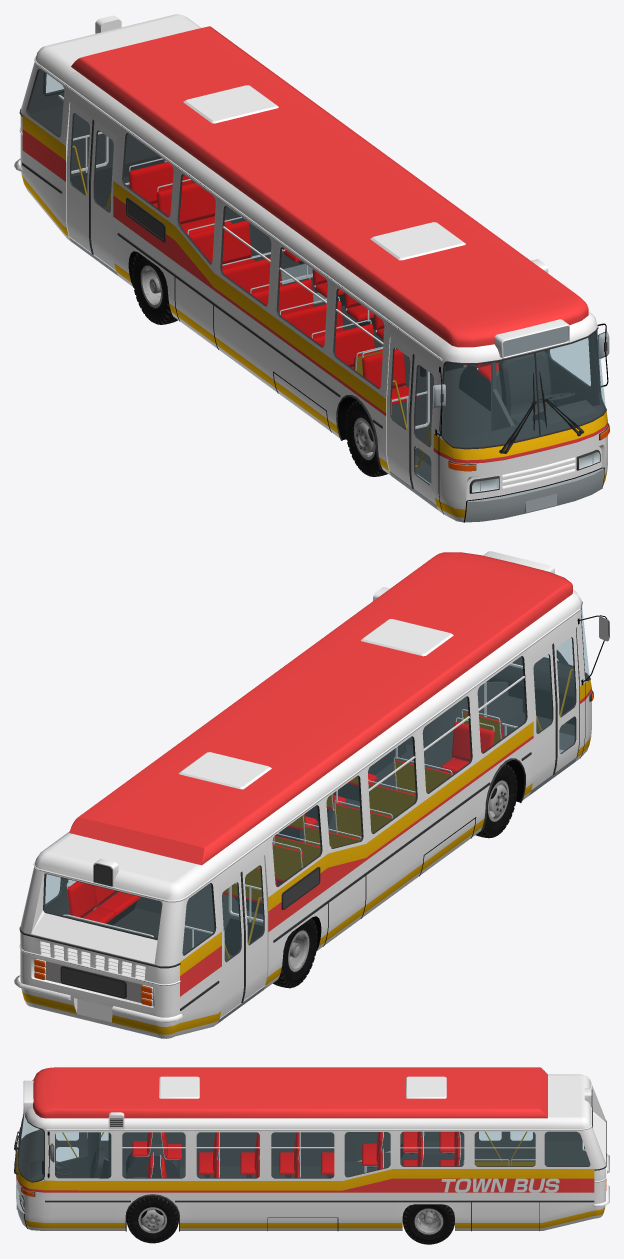
The model's file is bus.glb.
3 views of the same model, one above another, from view 1: azimuth 30°, elevation 25°; view 2: azimuth 150°, elevation 25°; view 3: azimuth 270°, elevation 25° (orthographic). The views are drawn at different scales.
Visible parts, largest first — view 1: part|Object_34, part|Object_25, part|Object_16, part|Object_22, part|Object_24, part|Object_33, part|Object_23, part|Object_27, part|Object_17, part|Object_26, wheel_r|Object_12, wheel_fr|Object_10 (+7 smaller); view 2: part|Object_25, part|Object_34, part|Object_16, part|Object_22, part|Object_33, part|Object_35, part|Object_23, part|Object_24, part|Object_27, part|Object_32, wheel_r|Object_12, wheel_fr|Object_10 (+4 smaller); view 3: part|Object_25, part|Object_34, part|Object_16, part|Object_33, part|Object_27, part|Object_22, part|Object_24, part|Object_23, wheel_fl|Object_11, wheel_r|Object_14, part|Object_32, part|Object_2 (+5 smaller).
Part boxes in pixels (x1=…): part|Object_34: x1=22, y1=26, x2=607, y2=463; part|Object_25: x1=20, y1=14, x2=607, y2=522; part|Object_16: x1=28, y1=69, x2=605, y2=492; part|Object_22: x1=26, y1=69, x2=608, y2=493; part|Object_24: x1=129, y1=162, x2=498, y2=404; part|Object_33: x1=21, y1=115, x2=607, y2=517; part|Object_23: x1=19, y1=72, x2=607, y2=488; part|Object_27: x1=28, y1=69, x2=602, y2=505; part|Object_17: x1=69, y1=237, x2=604, y2=522; part|Object_26: x1=58, y1=95, x2=569, y2=467; wheel_r|Object_12: x1=132, y1=252, x2=177, y2=324; wheel_fr|Object_10: x1=345, y1=400, x2=387, y2=476; part|Object_25: x1=20, y1=587, x2=591, y2=1038; part|Object_34: x1=69, y1=552, x2=591, y2=996; part|Object_16: x1=44, y1=609, x2=589, y2=961; part|Object_22: x1=45, y1=637, x2=592, y2=962; part|Object_33: x1=22, y1=680, x2=591, y2=1034; part|Object_35: x1=223, y1=668, x2=573, y2=959; part|Object_23: x1=19, y1=601, x2=590, y2=1010; part|Object_24: x1=67, y1=712, x2=502, y2=923; part|Object_27: x1=45, y1=627, x2=579, y2=924; part|Object_32: x1=14, y1=608, x2=580, y2=1022; wheel_r|Object_12: x1=273, y1=917, x2=317, y2=988; wheel_fr|Object_10: x1=475, y1=763, x2=517, y2=838; part|Object_25: x1=16, y1=1074, x2=605, y2=1230; part|Object_34: x1=16, y1=1067, x2=594, y2=1192; part|Object_16: x1=18, y1=1112, x2=592, y2=1205; part|Object_33: x1=16, y1=1149, x2=604, y2=1228; part|Object_27: x1=36, y1=1129, x2=582, y2=1177; part|Object_22: x1=14, y1=1119, x2=590, y2=1207; part|Object_24: x1=132, y1=1131, x2=535, y2=1177; part|Object_23: x1=14, y1=1089, x2=606, y2=1231; wheel_fl|Object_11: x1=126, y1=1195, x2=178, y2=1243; wheel_r|Object_14: x1=402, y1=1204, x2=454, y2=1244; part|Object_32: x1=46, y1=1082, x2=609, y2=1207; part|Object_2: x1=441, y1=1178, x2=559, y2=1192.
Size of the model in its own units: 2.68 by 2.72 by 11.
20 materials, 3 textured.
